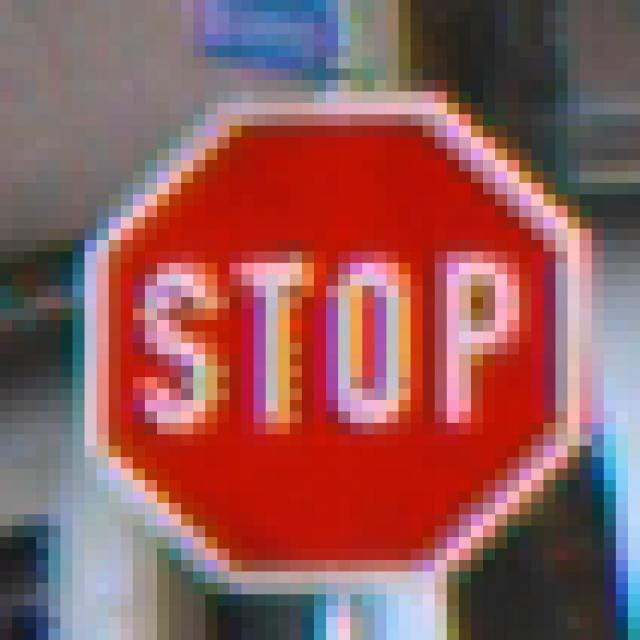STOP: (74, 70, 569, 573)
